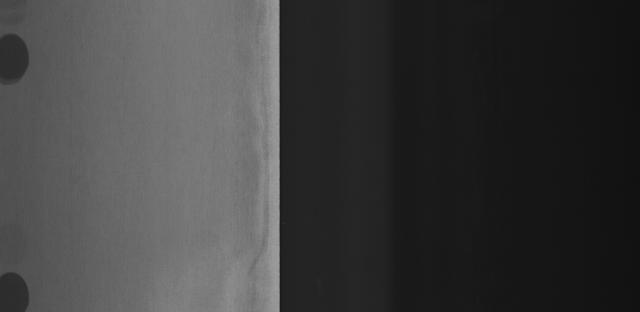oil_spot: (0, 249, 38, 311), (0, 25, 36, 90)
